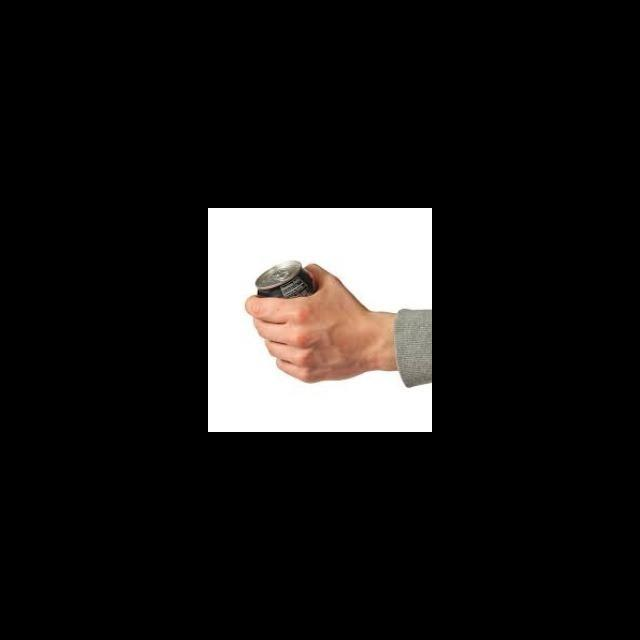metal: (248, 260, 320, 303)
